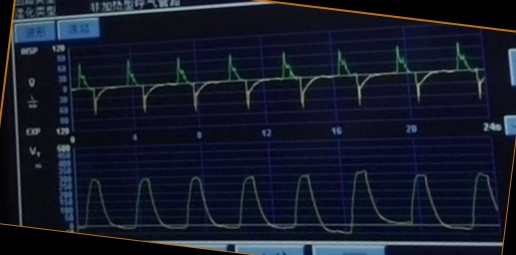Accumulation Flow: (73, 41, 485, 116)
Volume: (80, 166, 499, 237)
